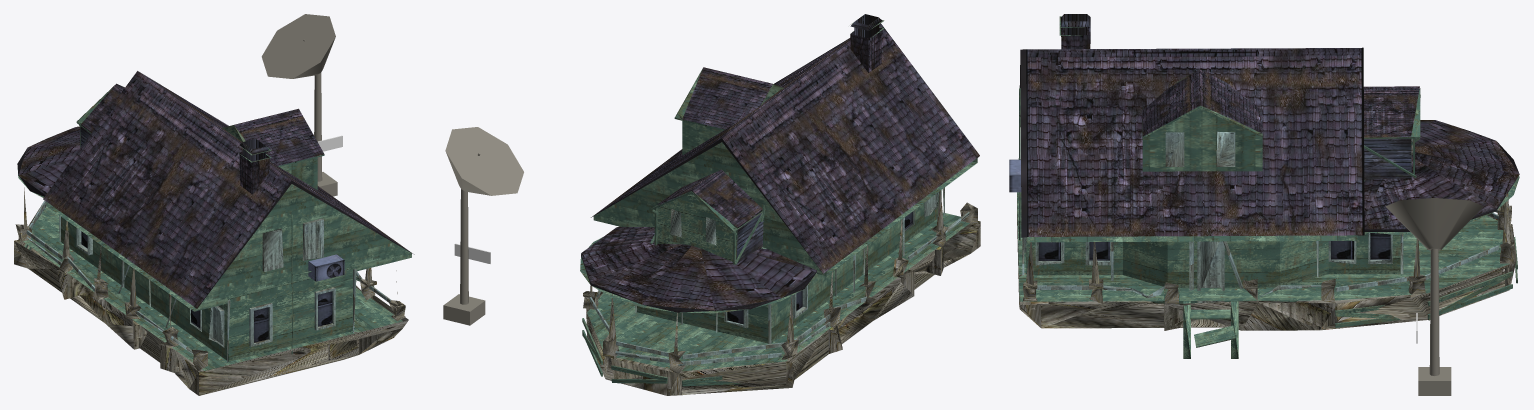
3 renders of one model, left to right at view 1: azimuth 30°, elevation 25°; view 2: azimuth 150°, elevation 25°; view 3: azimuth 270°, elevation 25°, orthographic. The views are drawn at different scales.
Parts seen in each view (by area): view 1: dweller_building_lab; view 2: dweller_building_lab; view 3: dweller_building_lab.
Boxes of the visible parts, x1,y1,x2,y2 form: dweller_building_lab: (14,14,414,395); dweller_building_lab: (443,14,980,395); dweller_building_lab: (1009,14,1519,395).
Size of the model in its own units: 15.46 by 9.99 by 18.6.
6 materials, 4 textured.
